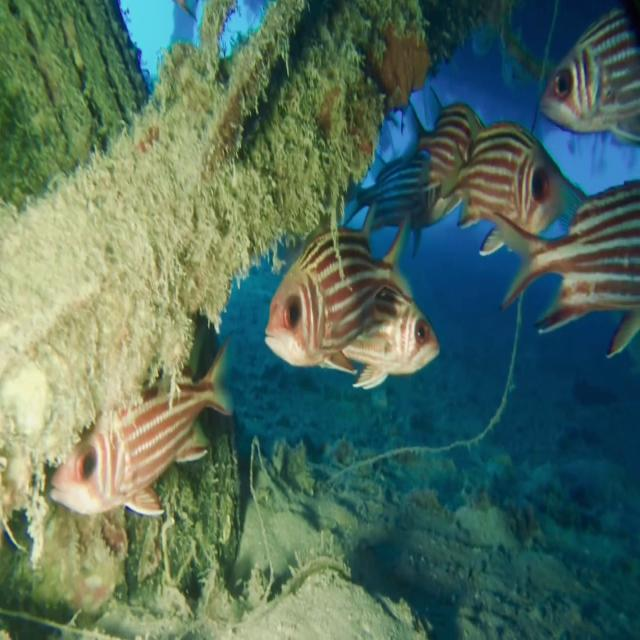Asker Baligi: (48, 331, 235, 520), (263, 204, 441, 391), (442, 114, 551, 258)
